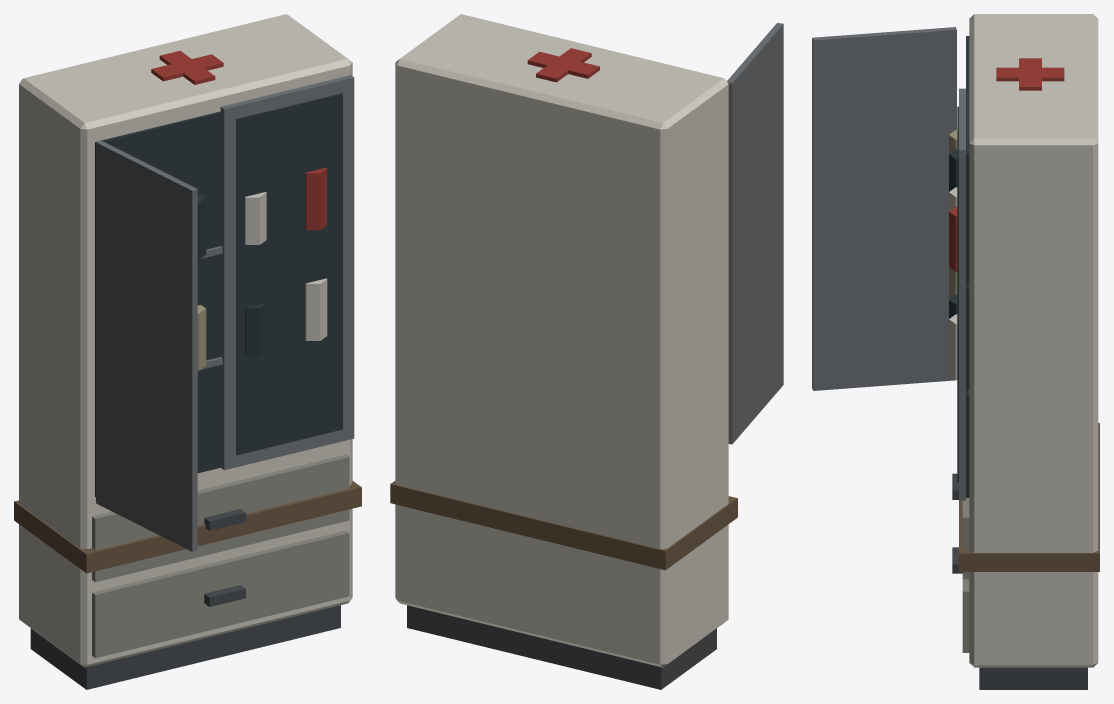
Rendered from clinic_cabinet.glb.
3 renders of one model, left to right at view 1: azimuth 30°, elevation 25°; view 2: azimuth 150°, elevation 25°; view 3: azimuth 270°, elevation 25°, orthographic. The views are drawn at different scales.
Visible parts, largest first — view 1: clinic_cabinet; view 2: clinic_cabinet; view 3: clinic_cabinet.
Boxes of the visible parts, bbox=[...] form: clinic_cabinet: bbox=[14, 14, 361, 689]; clinic_cabinet: bbox=[390, 14, 783, 689]; clinic_cabinet: bbox=[812, 14, 1099, 689].
Size of the model in its own units: 0.91 by 1.81 by 0.8485.
